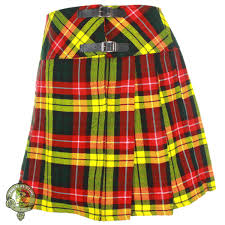C_skirt: (13, 3, 223, 223)
